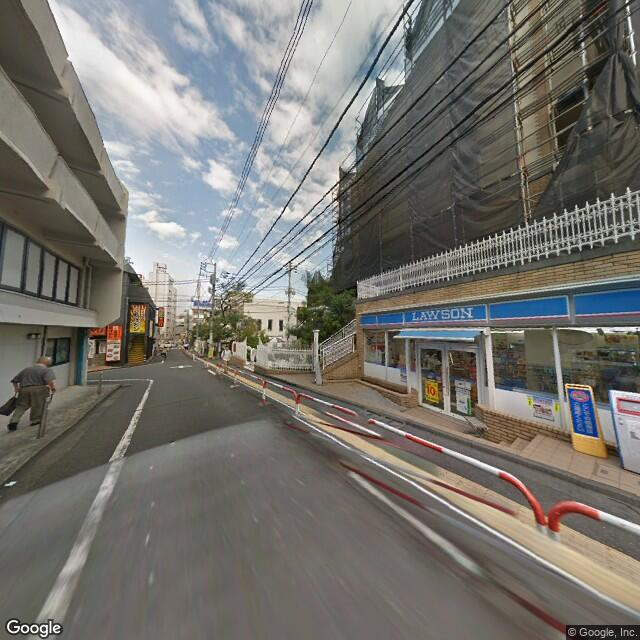lawson: (357, 282, 637, 336)
